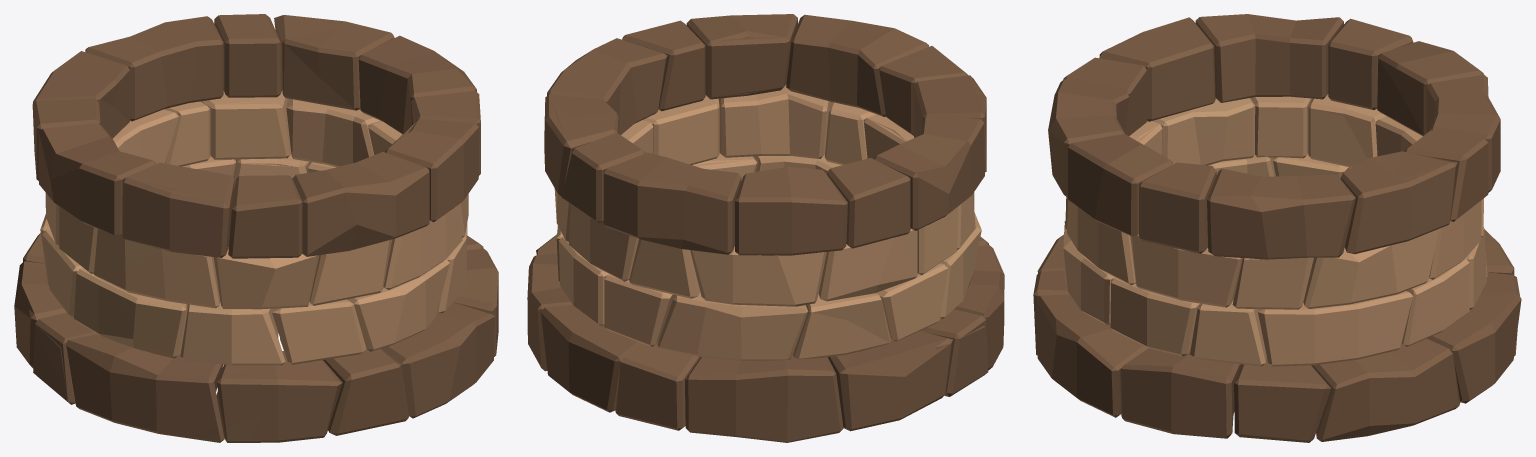
File: Well.fbx
The picture shows the model from 3 angles, left to right: view 1: azimuth 30°, elevation 25°; view 2: azimuth 150°, elevation 25°; view 3: azimuth 270°, elevation 25°; orthographic projection.
Visible parts, largest first — view 1: Cube.003, Cube, Cube.002, Cube.001; view 2: Cube.003, Cube, Cube.002, Cube.001; view 3: Cube.003, Cube, Cube.002, Cube.001.
Boxes of the visible parts, x1,y1,x2,y2 form: Cube.003: (32,14,480,258); Cube: (14,233,498,442); Cube.002: (45,90,468,309); Cube.001: (40,154,467,365); Cube.003: (544,14,986,255); Cube: (527,234,1004,442); Cube.002: (554,84,975,306); Cube.001: (556,153,981,361); Cube.003: (1048,14,1500,259); Cube: (1033,229,1521,442); Cube.002: (1065,94,1483,309); Cube.001: (1063,153,1487,366).
Bounding box in the file's own units: 164 × 92.14 × 165.
Materials: 1 (1 with a texture image).
